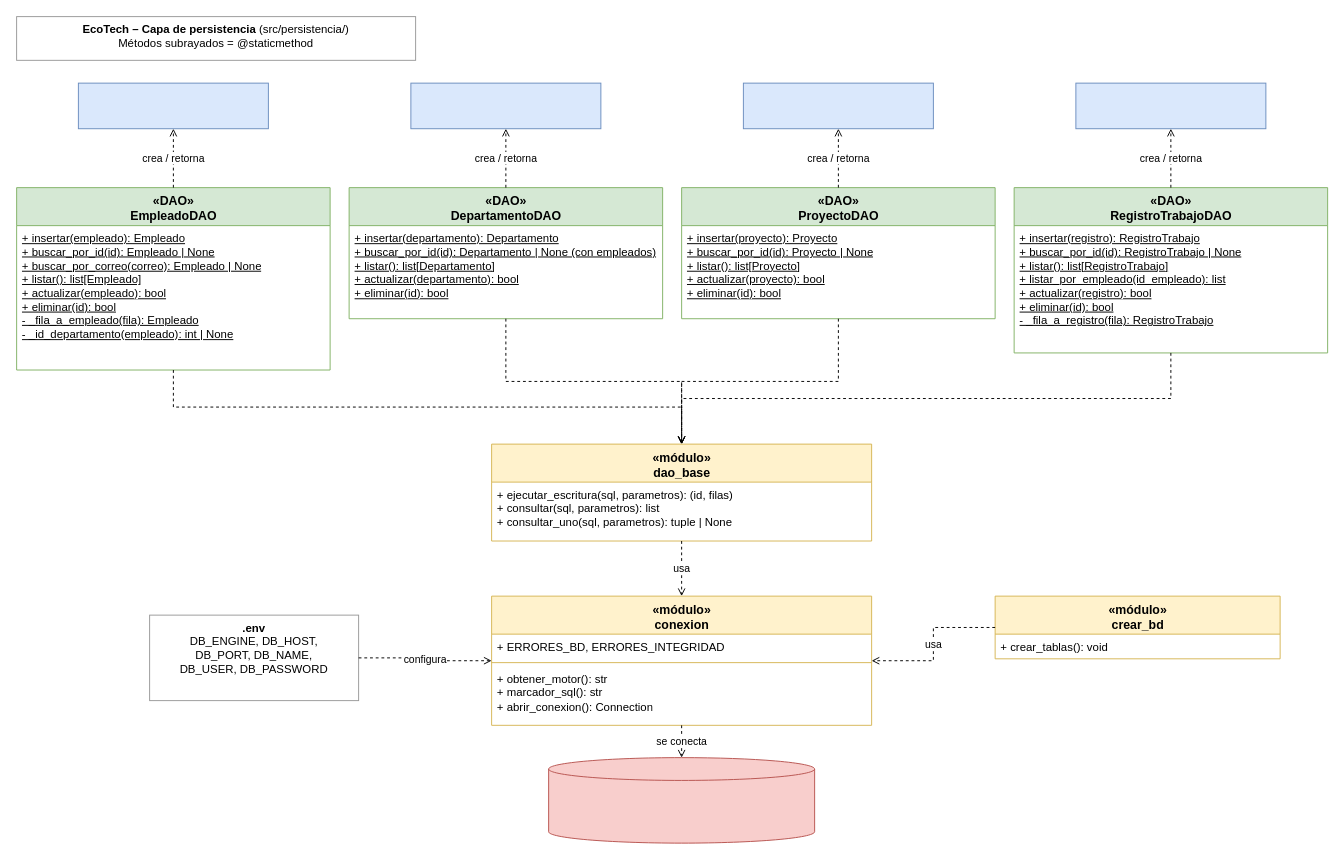
Some shapes in this 1344 by 860 pixel diagram are drawn without their labels. The centre of each missing label's shape, as x and y in pixels:
Base de datos SQLite / MySQL / MariaDB: point (681, 800)
«dominio» Departamento: point (505, 105)
«dominio» Empleado: point (172, 105)
«dominio» Proyecto: point (837, 105)
«dominio» RegistroTrabajo: point (1170, 105)
